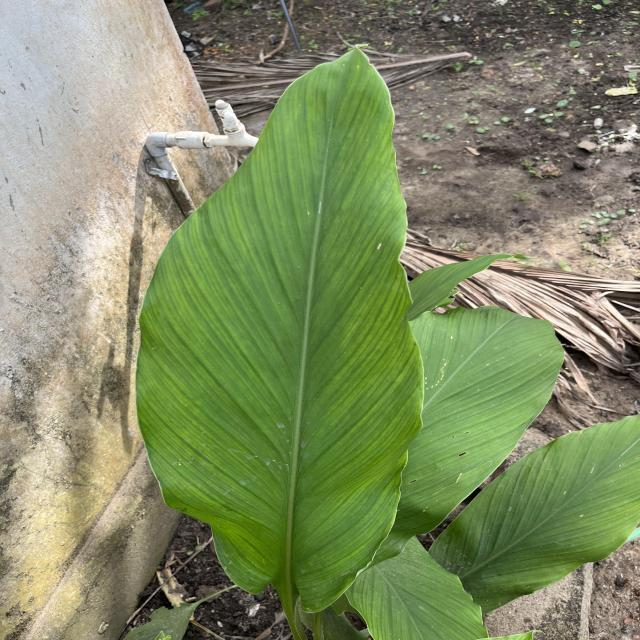Curcuma longa: (128, 35, 430, 620)
